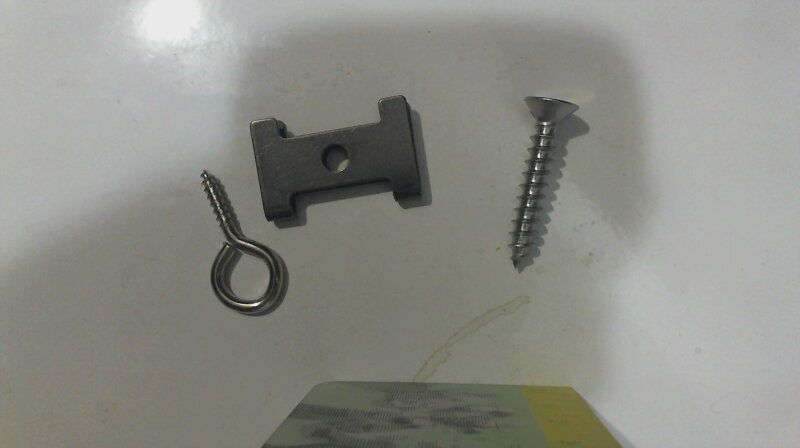O001: (197, 167, 290, 317)
O002: (245, 91, 423, 220)
S001: (507, 91, 583, 269)
